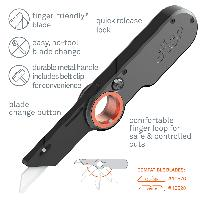knife: (17, 8, 189, 197)
